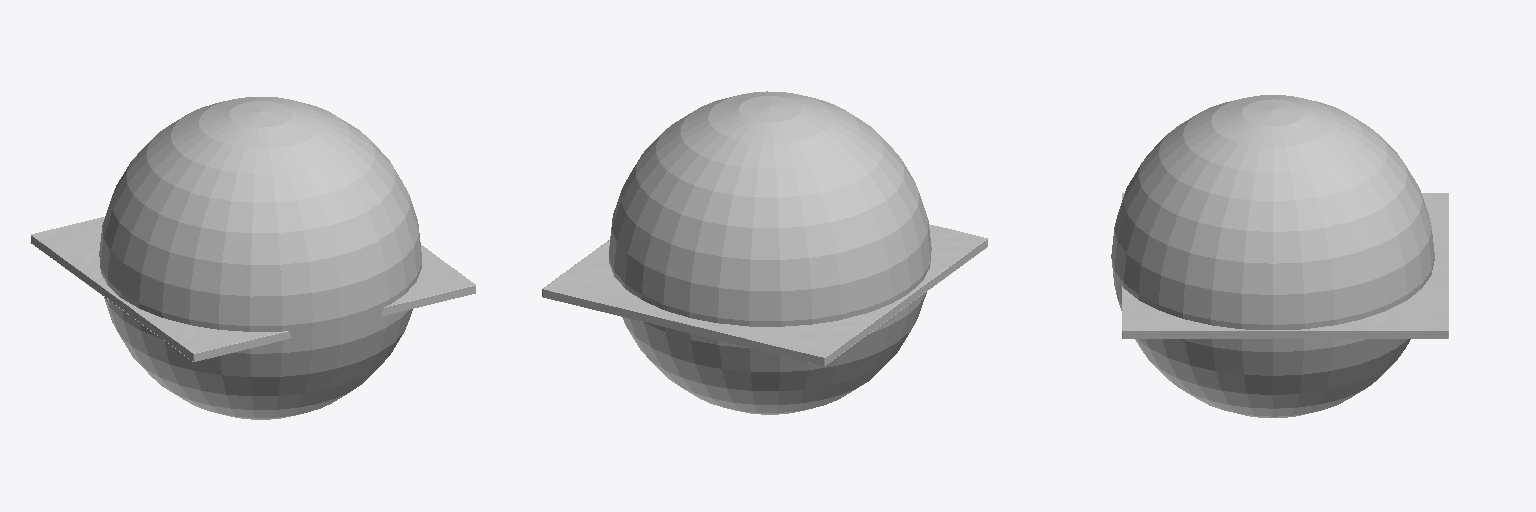
File: treasure chest.obj
3 views of the same model, side by side, from view 1: azimuth 30°, elevation 25°; view 2: azimuth 150°, elevation 25°; view 3: azimuth 270°, elevation 25° (orthographic).
Parts seen in each view (by area): view 1: Sky_Sphere.001, water_Cube.006; view 2: Sky_Sphere.001, water_Cube.006; view 3: Sky_Sphere.001, water_Cube.006.
Part boxes in pixels (x1,y1,x2,y2): Sky_Sphere.001: (99, 97, 421, 419); water_Cube.006: (31, 217, 475, 361); Sky_Sphere.001: (609, 91, 931, 414); water_Cube.006: (542, 224, 987, 365); Sky_Sphere.001: (1111, 95, 1434, 417); water_Cube.006: (1122, 193, 1448, 338).
Bounding box in the file's own units: 42.45 × 42 × 43.79.